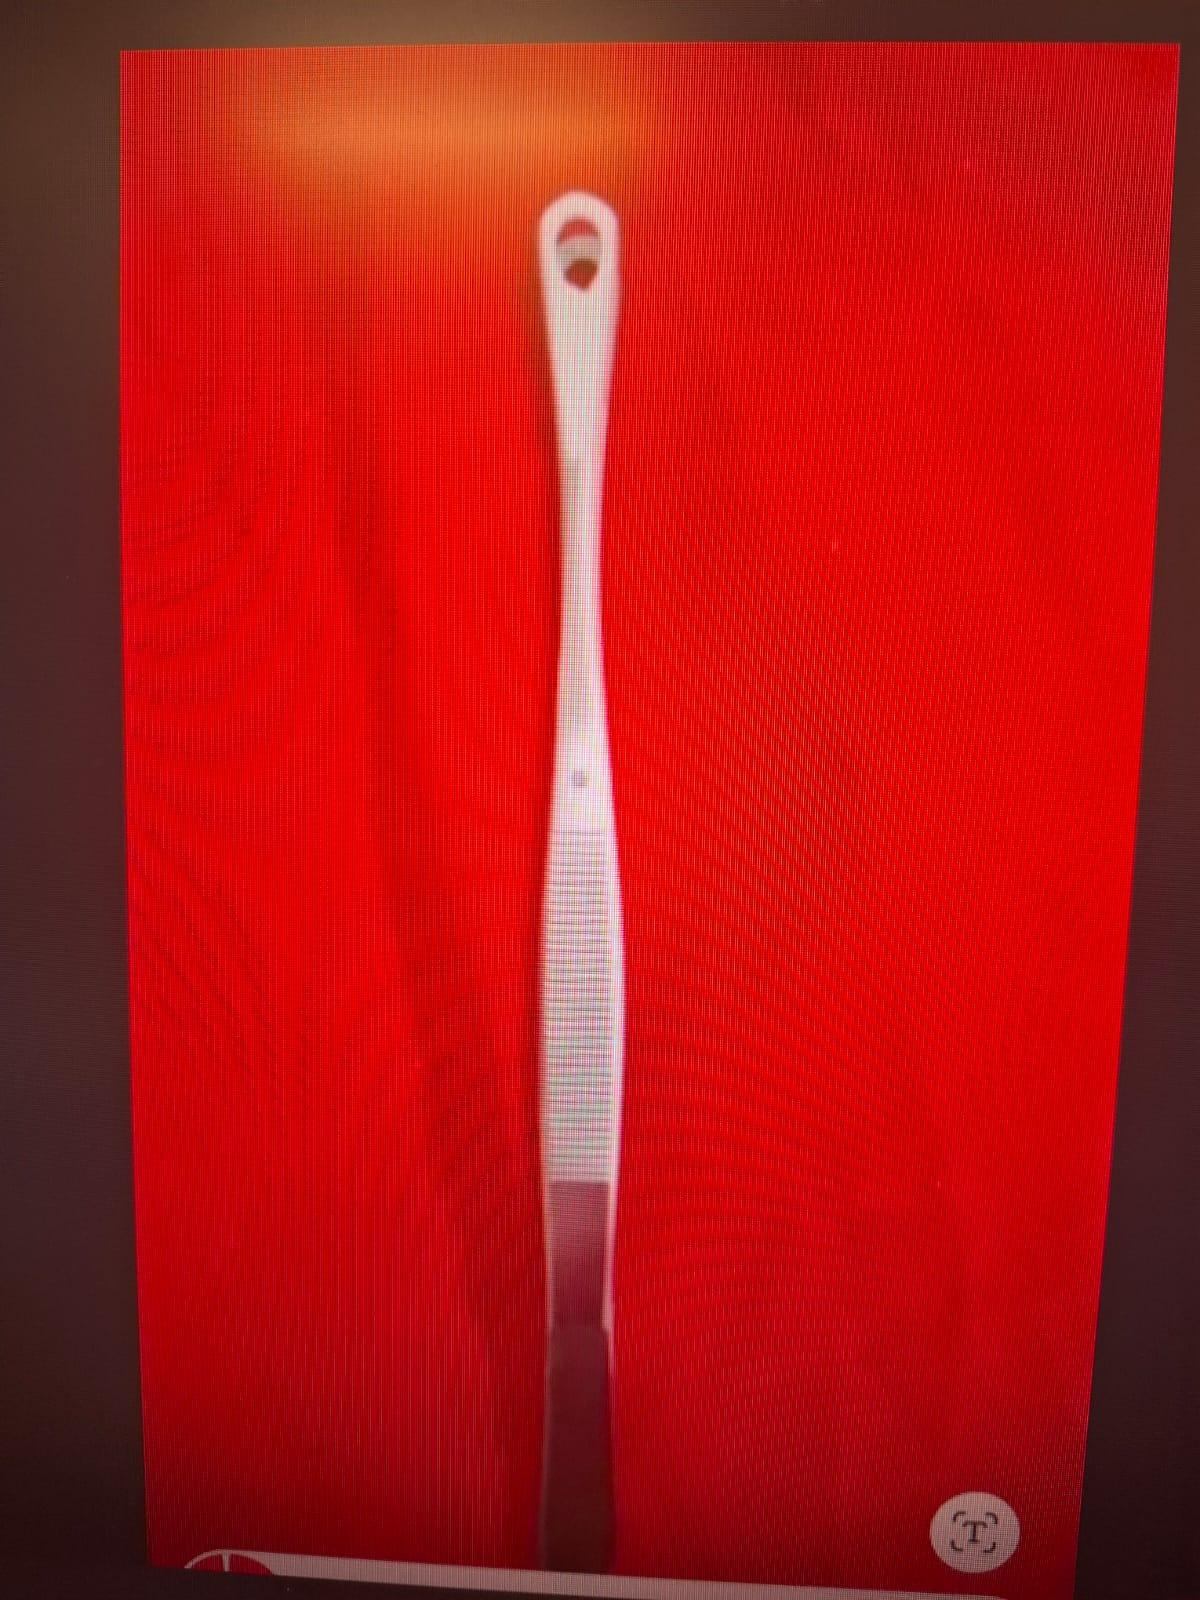Eye Intestinal Forceps: (493, 180, 682, 1597)
